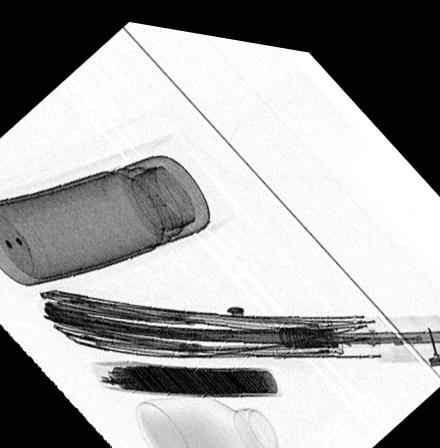Powerbank: (89, 354, 284, 392)
